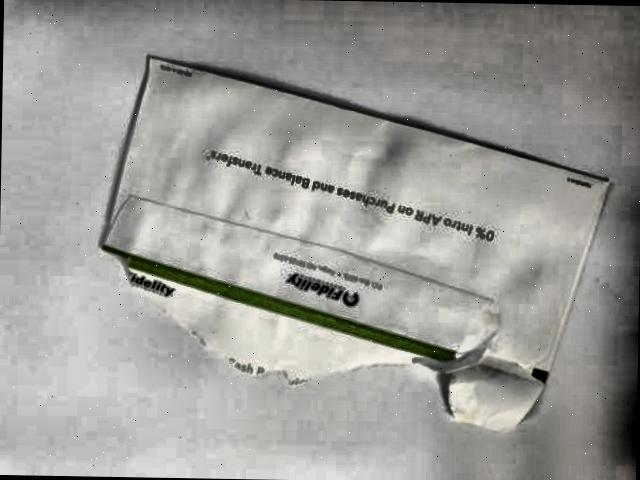Paper: (57, 38, 610, 444)
